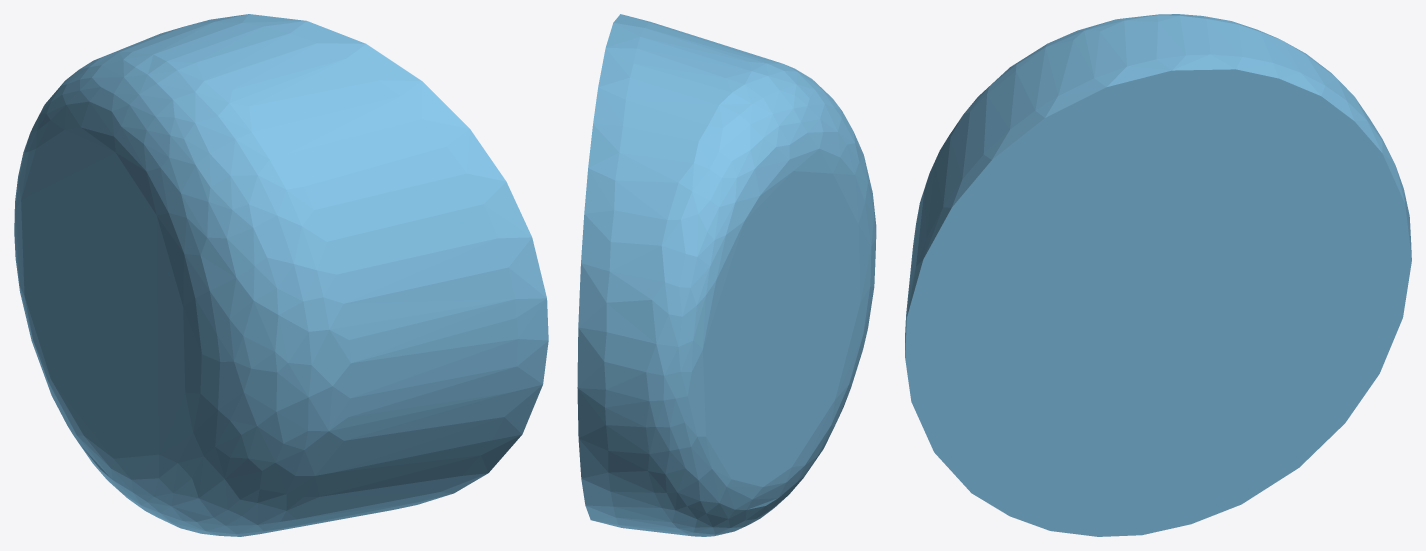
Rendered from UR3_link3_visible_vis_10.dae.
3 views of the same model, side by side, from view 1: azimuth 30°, elevation 25°; view 2: azimuth 150°, elevation 25°; view 3: azimuth 270°, elevation 25° (orthographic). The views are drawn at different scales.
Visible parts, largest first — view 1: Node_000002D0E99FA340; view 2: Node_000002D0E99FA340; view 3: Node_000002D0E99FA340.
Boxes of the visible parts, left/top/right/bottom form: Node_000002D0E99FA340: left=14, top=14, right=548, bottom=536; Node_000002D0E99FA340: left=577, top=14, right=876, bottom=536; Node_000002D0E99FA340: left=905, top=14, right=1411, bottom=536.
Size of the model in its own units: 0.0513 by 0.0775 by 0.0776.
